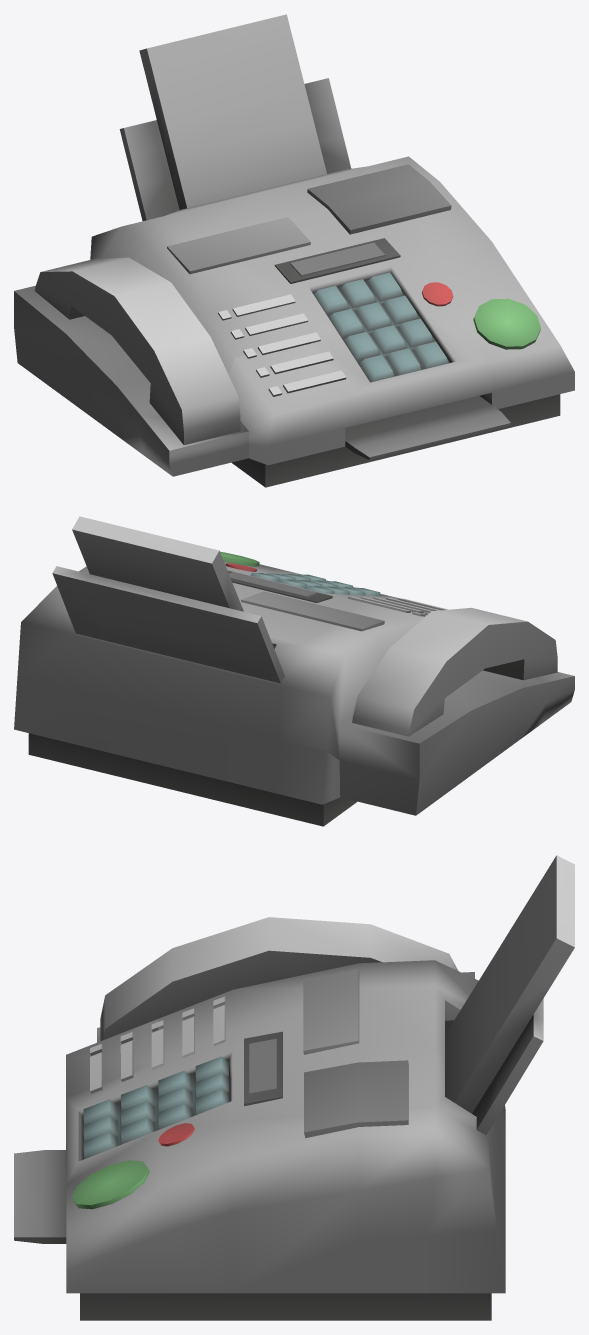
The model's file is human-electronics-fax-machine_v1.glb.
3 views of the same model, one above another, from view 1: azimuth 30°, elevation 25°; view 2: azimuth 150°, elevation 25°; view 3: azimuth 270°, elevation 25° (orthographic). The views are drawn at different scales.
Parts seen in each view (by area): view 1: Fax Machine; view 2: Fax Machine; view 3: Fax Machine.
Part boxes in pixels (x1,y1,x2,y2): Fax Machine: (14, 14, 574, 487); Fax Machine: (14, 516, 574, 826); Fax Machine: (14, 855, 574, 1320).
Size of the model in its own units: 0.3934 by 0.2648 by 0.4.
